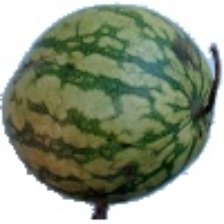watermelon: (21, 43, 220, 208)
